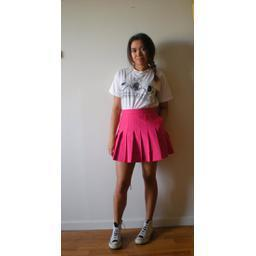Tshirt: (108, 65, 174, 110)
skirt: (110, 108, 176, 163)
